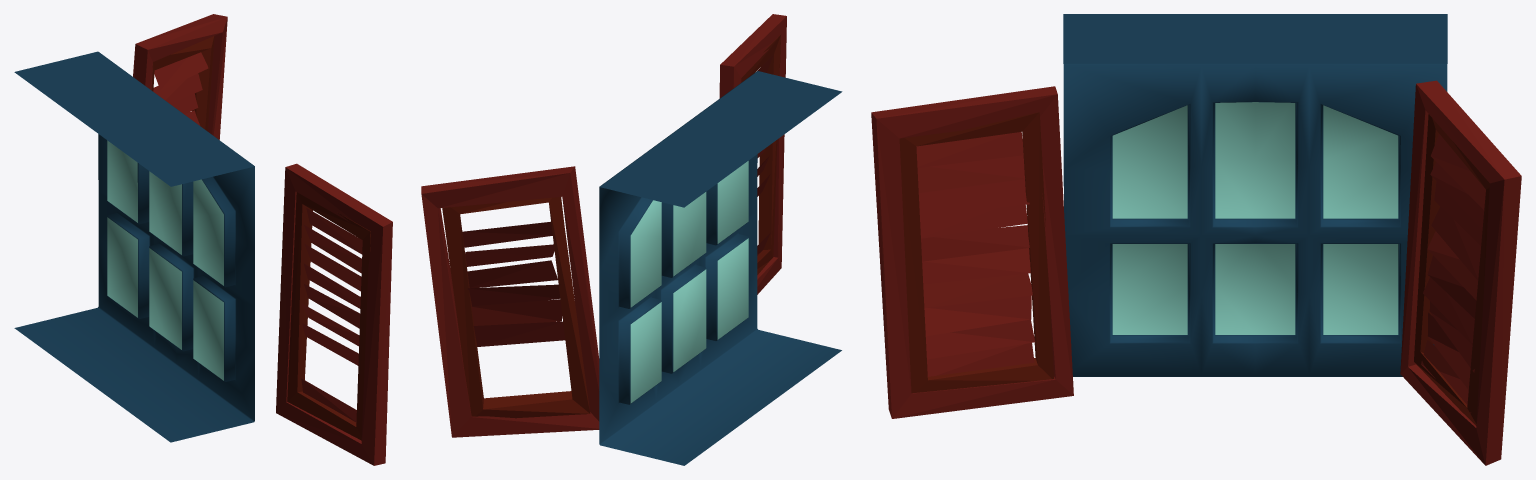
The model's file is Window_Shutters_Opened.fbx.
The picture shows the model from 3 angles, left to right: view 1: azimuth 30°, elevation 25°; view 2: azimuth 150°, elevation 25°; view 3: azimuth 270°, elevation 25°; orthographic projection. The views are drawn at different scales.
Parts seen in each view (by area): view 1: Window_6Pane, Shutter_Left, Shutter_Right; view 2: Window_6Pane, Shutter_Right, Shutter_Left; view 3: Window_6Pane, Shutter_Left, Shutter_Right.
Boxes of the visible parts, <box> form: Window_6Pane: <box>14,51,254,442</box>; Shutter_Left: <box>276,163,392,465</box>; Shutter_Right: <box>133,14,227,139</box>; Window_6Pane: <box>599,71,842,465</box>; Shutter_Right: <box>421,166,599,437</box>; Shutter_Left: <box>719,14,786,294</box>; Window_6Pane: <box>1063,14,1447,376</box>; Shutter_Left: <box>871,86,1073,418</box>; Shutter_Right: <box>1400,80,1521,465</box>.
Bounding box in the file's own units: 1.57 × 3.05 × 1.7.
